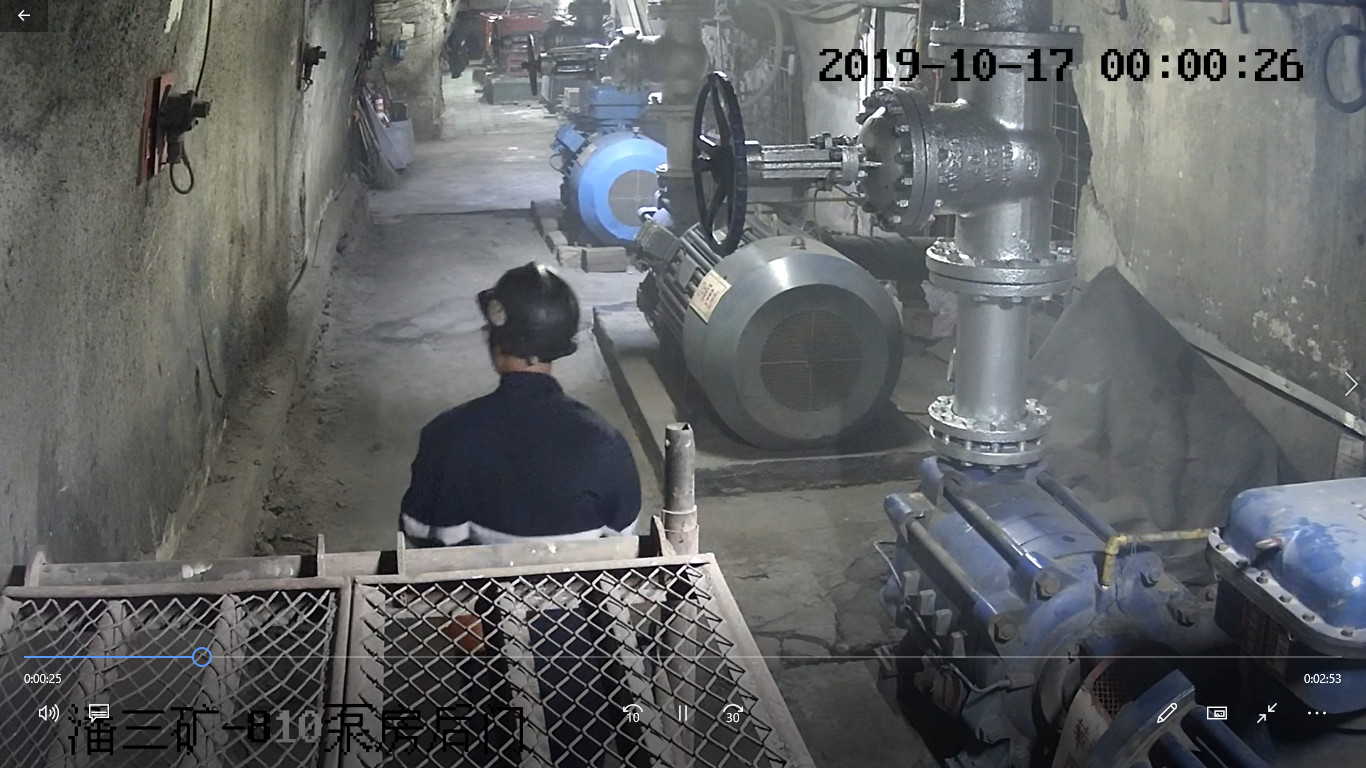helmet: (478, 262, 580, 358)
